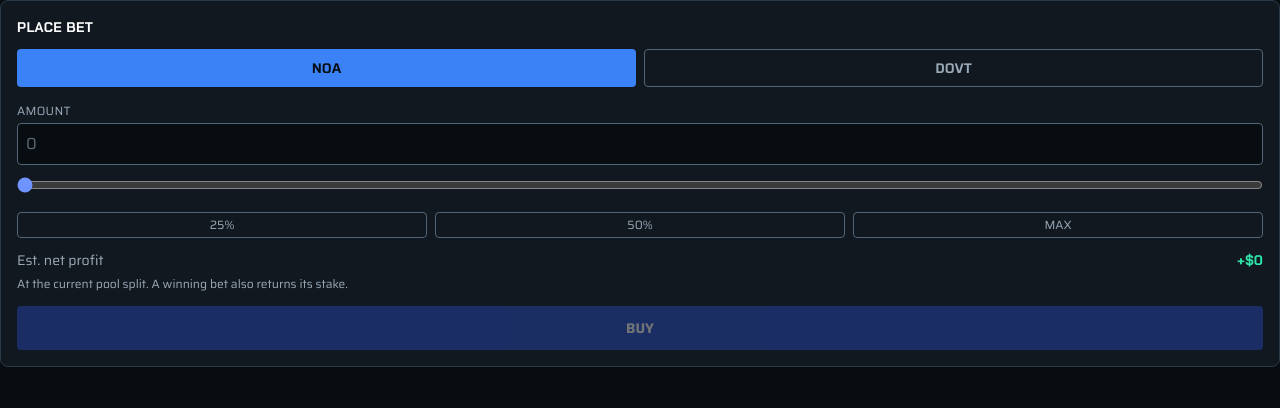
it: BetPanel › shows an over-balance warning without needing the error prop
The width and height of the screenshot is (1280, 408).
Type "500" into the number field labelled "Amount" at (640, 144), box [17,123,1263,165]
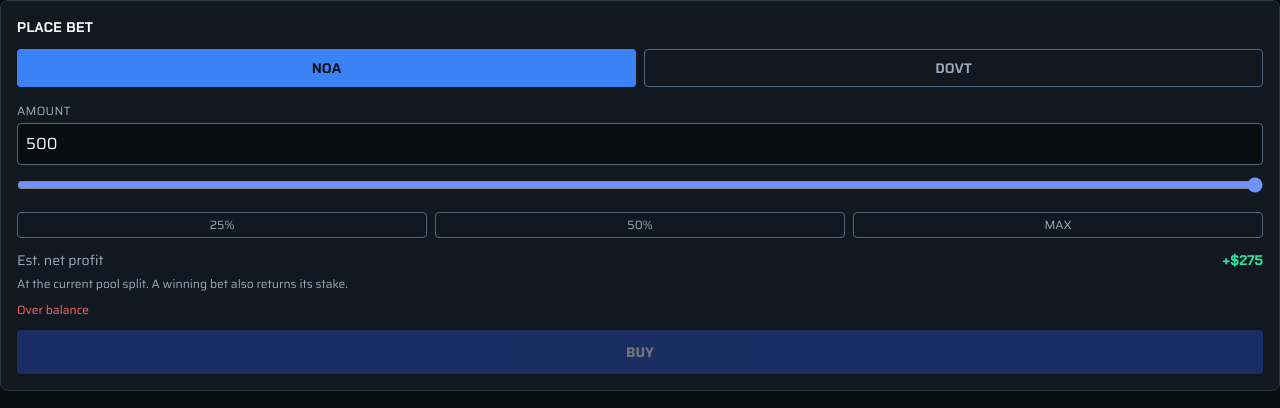
Now the text "Over balance" is shown, box [17,300,89,319]
